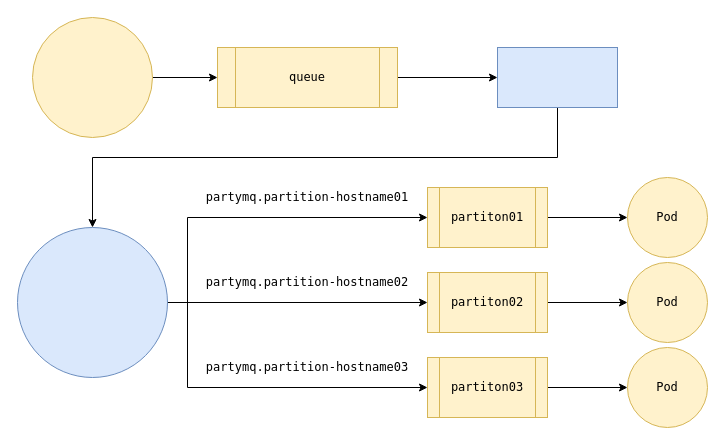
The diagram is 725 pixels wide and 445 high, and some of its shapes have lost their labels. The centre of each missing label's shape, as x and y in pixels:
PartyMQ: point 557,77
partymq.ex.write: point 92,302
source exchange: point 92,77
